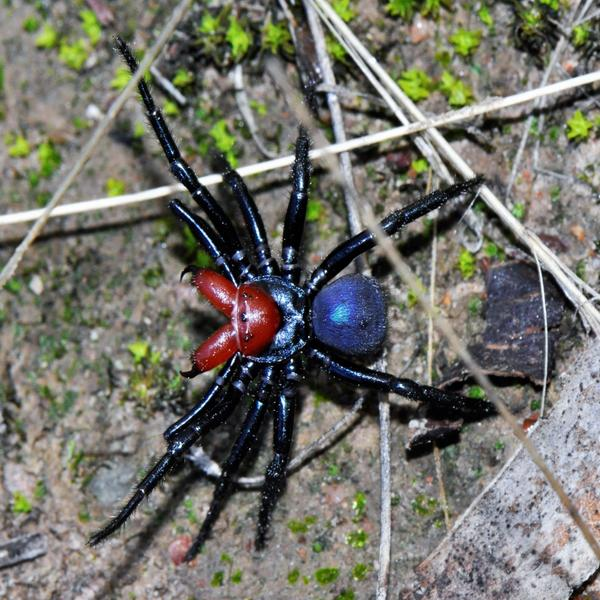Red Headed Mouse Spider: (106, 41, 484, 564)
